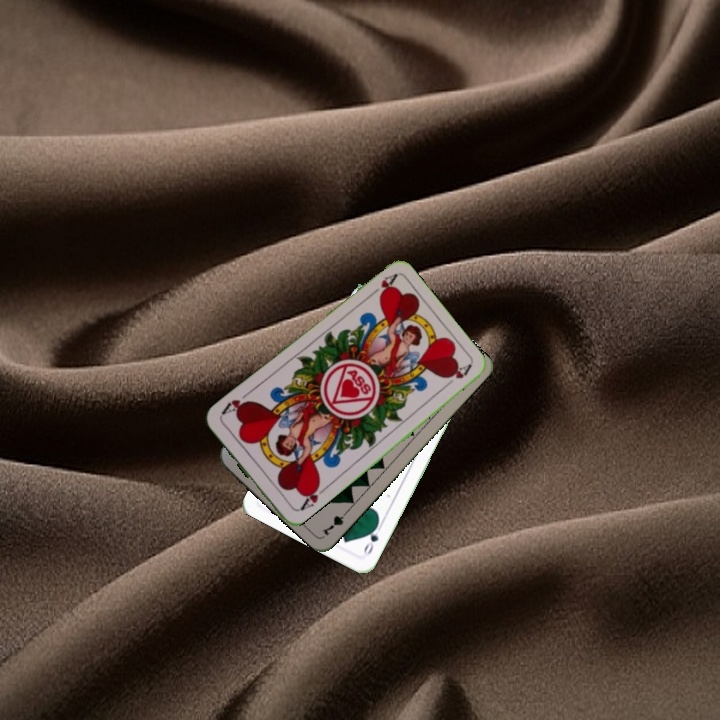G7: (318, 505, 352, 538)
GO: (360, 519, 381, 558)
HA: (294, 479, 328, 513), (364, 270, 399, 300)
